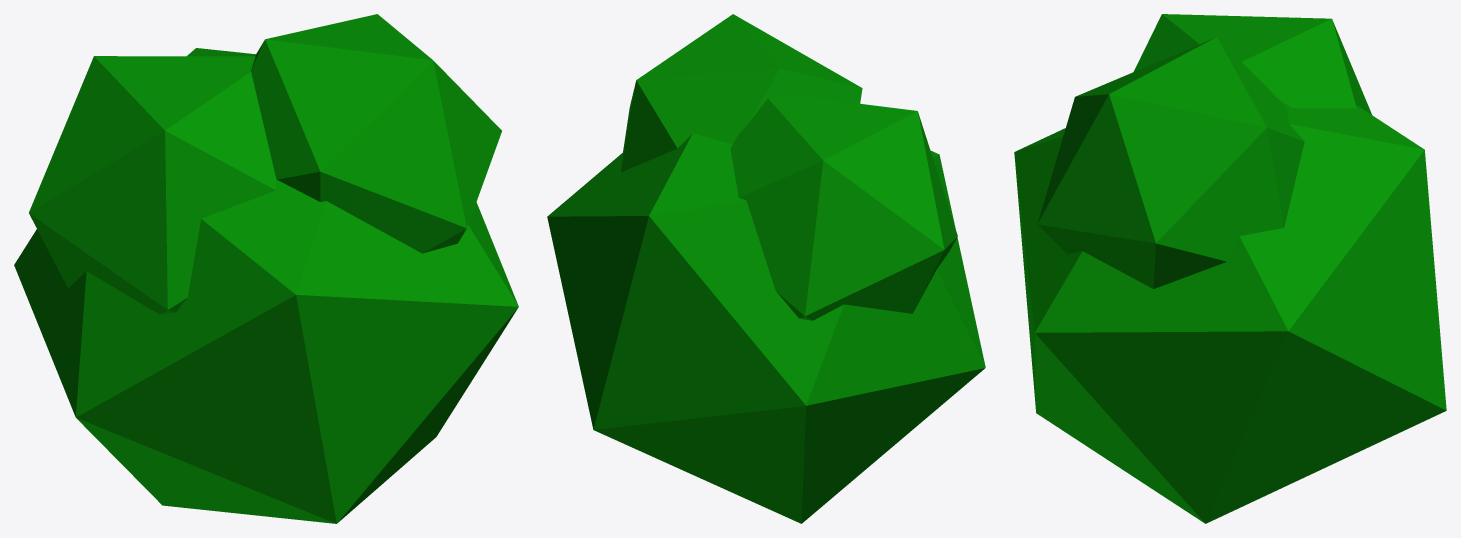
The model's file is Kust_V3.fbx.
3 views of the same model, side by side, from view 1: azimuth 30°, elevation 25°; view 2: azimuth 150°, elevation 25°; view 3: azimuth 270°, elevation 25° (orthographic). The views are drawn at different scales.
Visible parts, largest first — view 1: Kust_V3; view 2: Kust_V3; view 3: Kust_V3.
Part boxes in pixels (x1,y1,x2,y2): Kust_V3: [14, 14, 518, 523]; Kust_V3: [547, 14, 985, 523]; Kust_V3: [1014, 14, 1446, 523].
Size of the model in its own units: 2.97 by 3.07 by 2.65.
